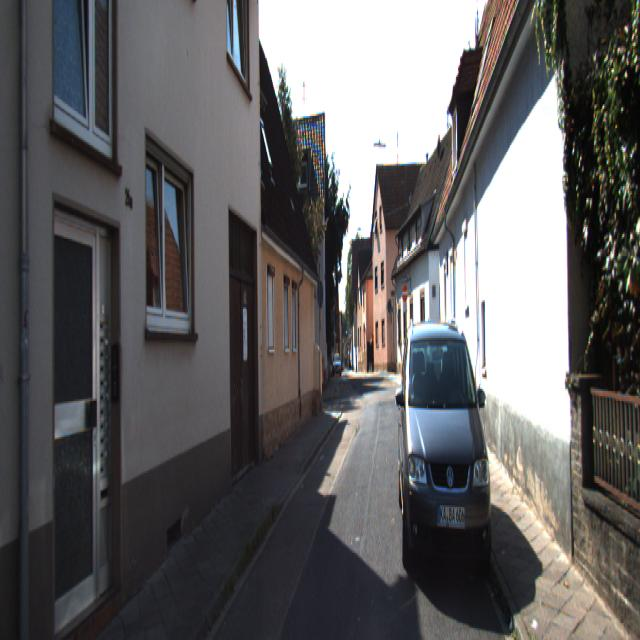Car: (396, 310, 502, 597)
DontCare: (330, 342, 344, 381)
